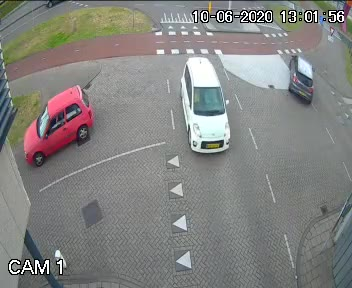car: (19, 76, 100, 171), (172, 56, 237, 159), (280, 45, 320, 104)
